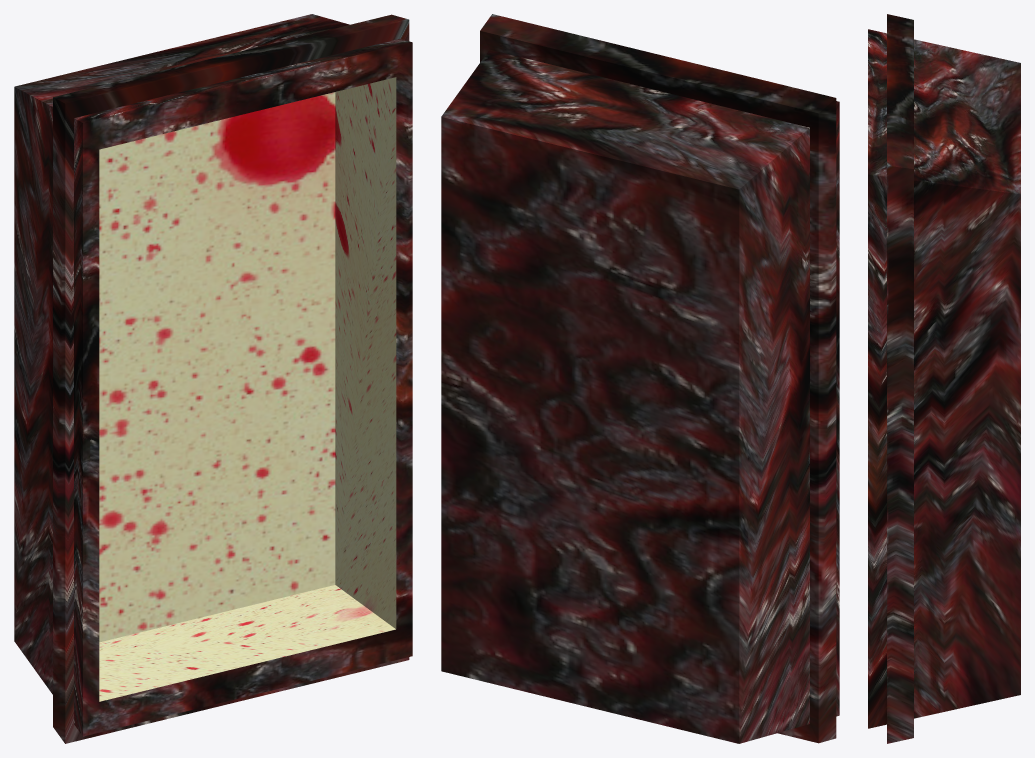
File: Table.obj
3 views of the same model, side by side, from view 1: azimuth 30°, elevation 25°; view 2: azimuth 150°, elevation 25°; view 3: azimuth 270°, elevation 25° (orthographic). The views are drawn at different scales.
Visible parts, largest first — view 1: Cube.002_Cube.002_Material.001, Cube.002_Cube.002_Material.000; view 2: Cube.002_Cube.002_Material.000; view 3: Cube.002_Cube.002_Material.000.
Boxes of the visible parts, x1,y1,x2,y2 form: Cube.002_Cube.002_Material.001: [99, 77, 396, 701]; Cube.002_Cube.002_Material.000: [14, 14, 412, 743]; Cube.002_Cube.002_Material.000: [441, 14, 839, 743]; Cube.002_Cube.002_Material.000: [868, 14, 1020, 743].
Bounding box in the file's own units: 188 × 334 × 80.
